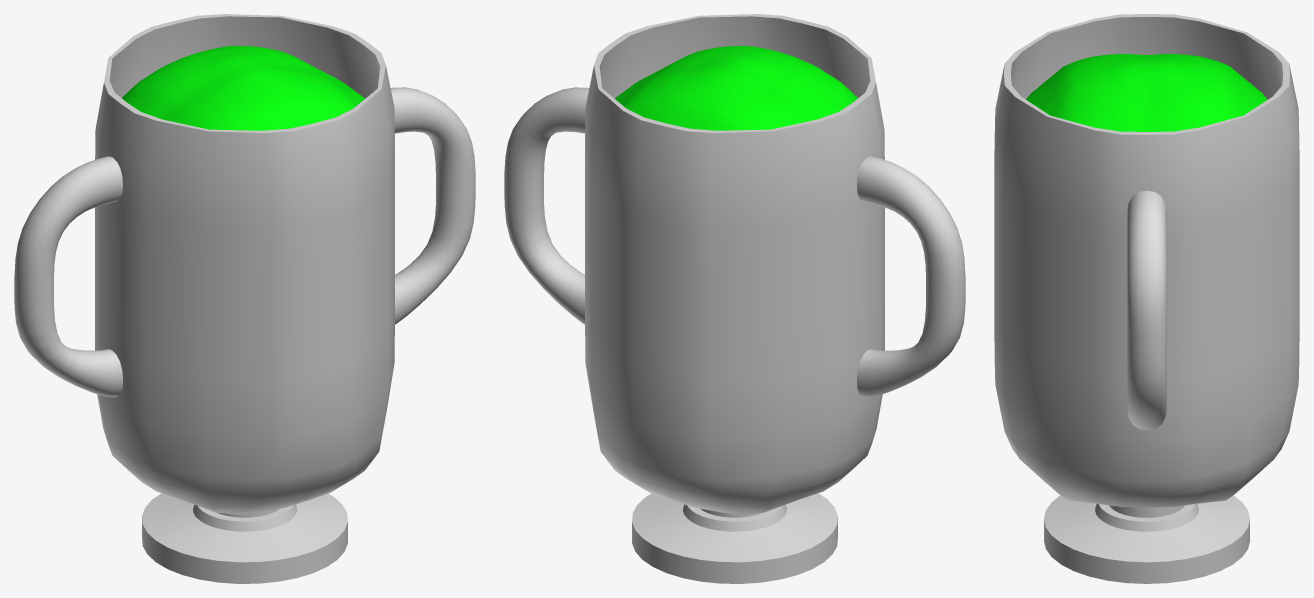
The model's file is glass_b-fill.fbx.
3 renders of one model, left to right at view 1: azimuth 30°, elevation 25°; view 2: azimuth 150°, elevation 25°; view 3: azimuth 270°, elevation 25°, orthographic.
Visible parts, largest first — view 1: glass.004; view 2: glass.004; view 3: glass.004.
Boxes of the visible parts, x1,y1,x2,y2 form: glass.004: [14, 14, 475, 583]; glass.004: [504, 14, 965, 583]; glass.004: [994, 14, 1299, 583].
Size of the model in its own units: 17.83 by 17.77 by 10.38.
